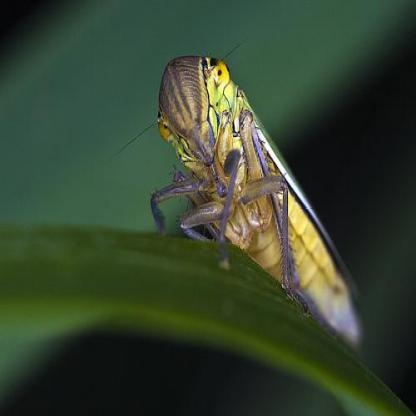Green-Leafhopper: (148, 50, 363, 342)
